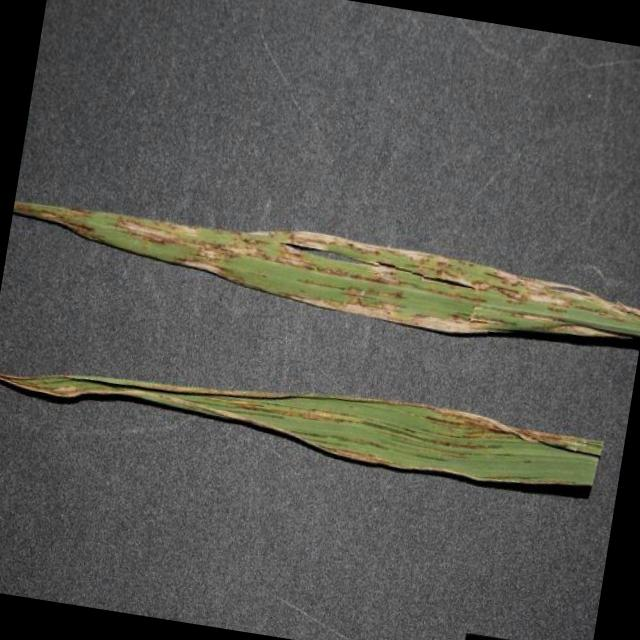Rice_Bacterial_Blight: (46, 177, 640, 361), (47, 328, 598, 468)
